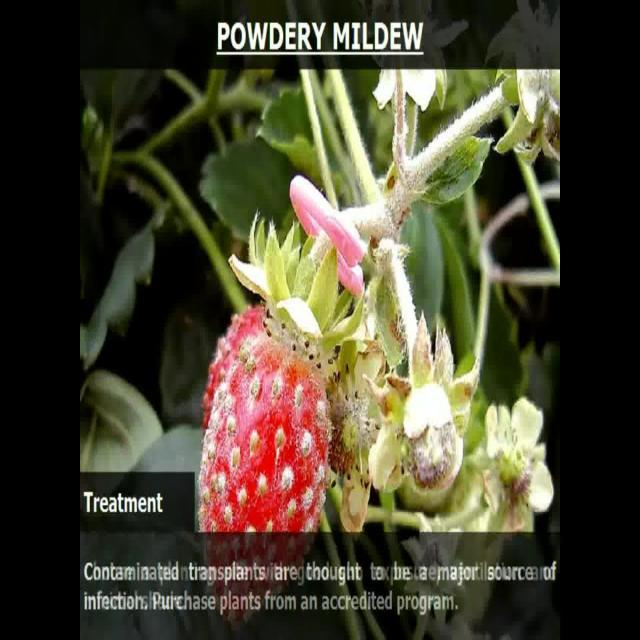Oído: (200, 303, 328, 532)
